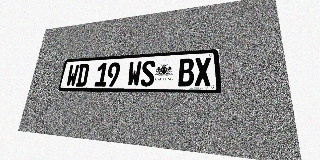1: (94, 63, 109, 86)
9: (106, 62, 121, 86)
B: (178, 58, 194, 86)
D: (75, 64, 90, 86)
S: (140, 60, 155, 86)
W: (127, 61, 142, 86), (65, 64, 79, 86)
X: (194, 57, 212, 86)
